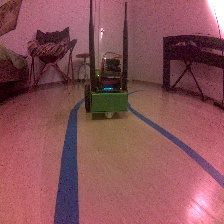rob: (83, 57, 129, 119)
